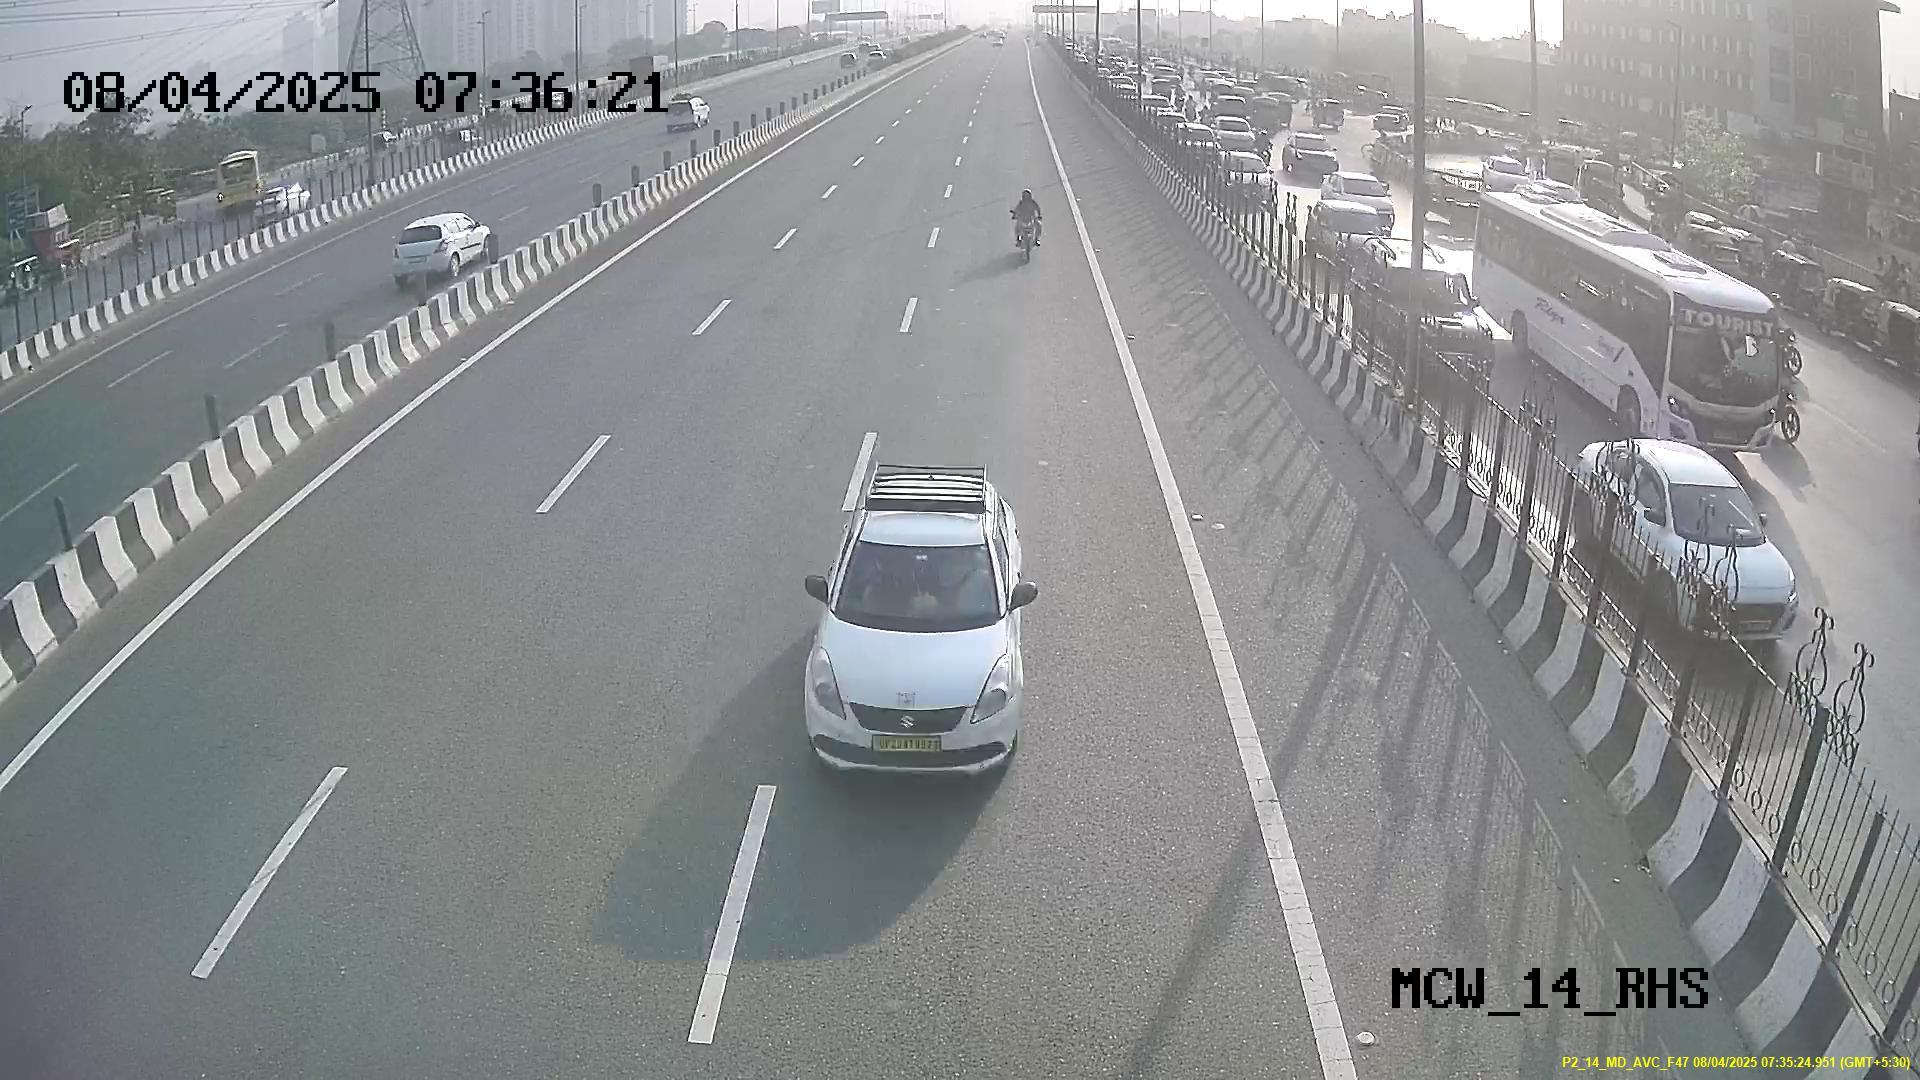bike: (1002, 185, 1044, 264)
car: (795, 522, 1035, 783)
